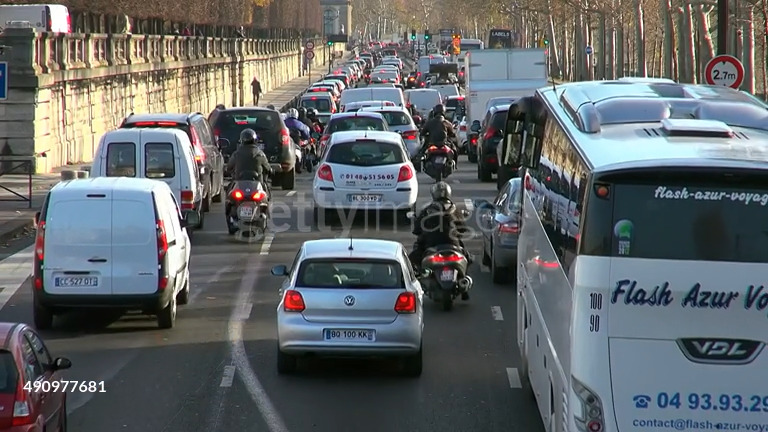car_number: (324, 329, 374, 340), (54, 276, 97, 287), (348, 194, 380, 201)
